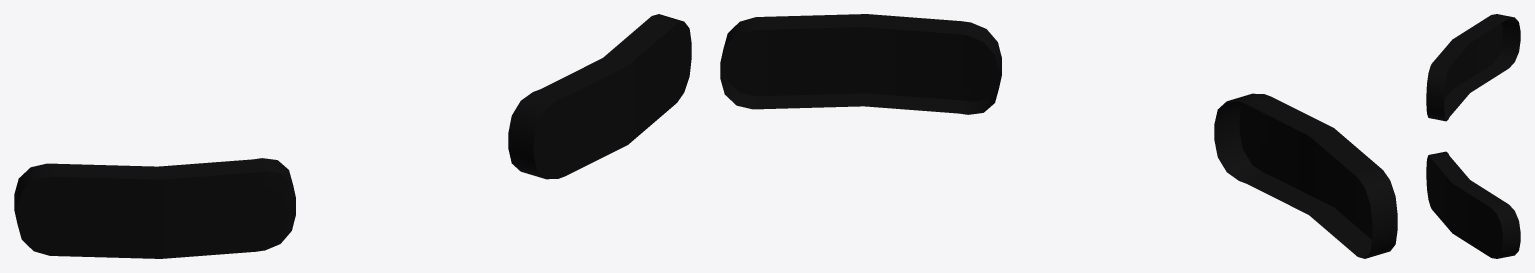
The model's file is Eyes_D_Clossed_01.fbx.
The picture shows the model from 3 angles, left to right: view 1: azimuth 30°, elevation 25°; view 2: azimuth 150°, elevation 25°; view 3: azimuth 270°, elevation 25°; orthographic projection. The views are drawn at different scales.
Parts seen in each view (by area): view 1: Eyes_D_Clossed_01; view 2: Eyes_D_Clossed_01; view 3: Eyes_D_Clossed_01.
Part boxes in pixels (x1,y1,x2,y2): Eyes_D_Clossed_01: (14,14,691,258); Eyes_D_Clossed_01: (720,14,1397,258); Eyes_D_Clossed_01: (1426,14,1520,258).
Bounding box in the file's own units: 62.51 × 7.03 × 11.98.
